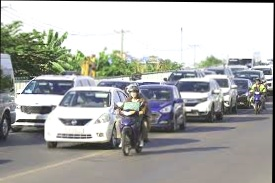Bien-so: (63, 127, 86, 133)
